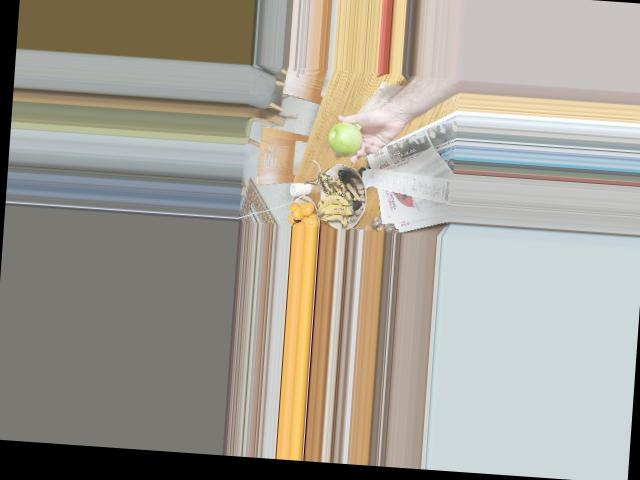apple: (327, 121, 365, 156)
